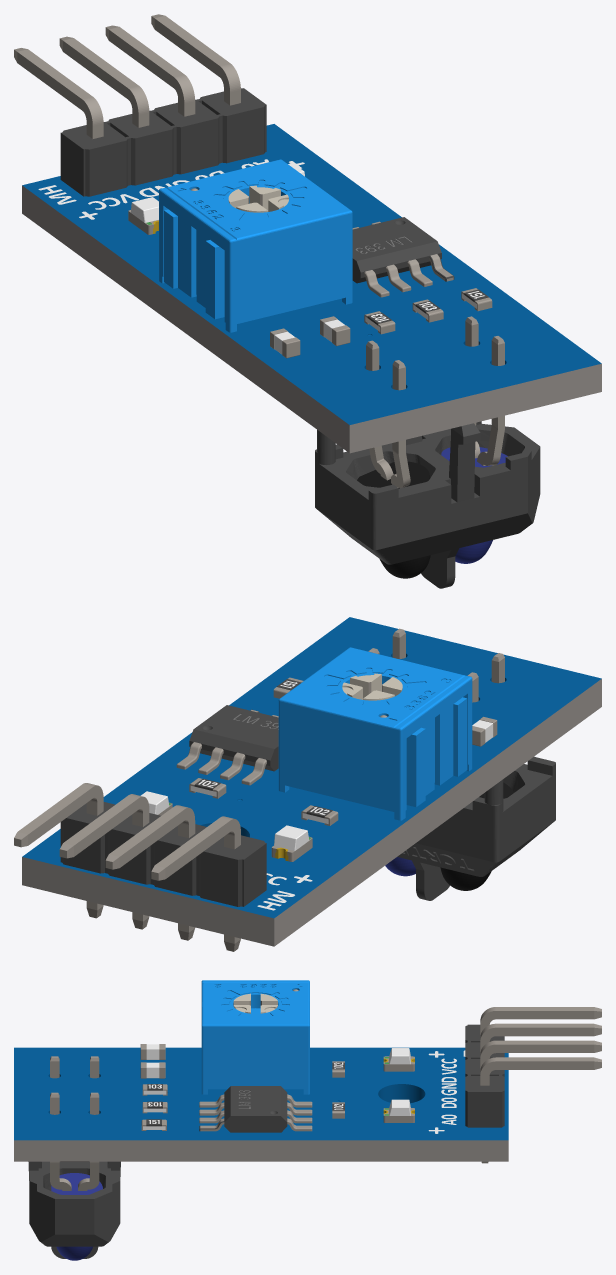
The model's file is MODULO TCRT5000L.obj.
3 renders of one model, top to bottom at view 1: azimuth 30°, elevation 25°; view 2: azimuth 150°, elevation 25°; view 3: azimuth 270°, elevation 25°, orthographic. The views are drawn at different scales.
Parts seen in each view (by area): view 1: obj6, obj1, obj3, obj14, obj2, obj8, obj5, obj4, obj15, obj10, obj9; view 2: obj6, obj3, obj1, obj14, obj2, obj8, obj5, obj4, obj10, obj15; view 3: obj6, obj3, obj14, obj1, obj2, obj5, obj8, obj4, obj9, obj10.
Boxes of the visible parts, x1,y1,x2,y2 form: obj6: [22, 124, 601, 424]; obj1: [60, 88, 540, 588]; obj3: [159, 159, 352, 332]; obj14: [22, 185, 601, 453]; obj2: [14, 14, 504, 488]; obj8: [135, 100, 540, 499]; obj5: [17, 15, 498, 472]; obj4: [38, 159, 484, 354]; obj15: [357, 461, 430, 578]; obj10: [228, 185, 288, 212]; obj9: [441, 447, 507, 563]; obj6: [22, 617, 601, 918]; obj3: [278, 647, 472, 820]; obj1: [60, 679, 555, 906]; obj14: [22, 679, 601, 946]; obj2: [14, 628, 504, 951]; obj8: [100, 686, 551, 895]; obj5: [18, 630, 496, 951]; obj4: [140, 680, 493, 910]; obj10: [342, 673, 402, 700]; obj15: [440, 782, 513, 890]; obj6: [14, 1047, 508, 1140]; obj3: [201, 980, 309, 1094]; obj14: [14, 1140, 508, 1161]; obj1: [28, 1024, 504, 1258]; obj2: [50, 989, 601, 1190]; obj5: [50, 1001, 594, 1181]; obj8: [29, 1057, 504, 1234]; obj4: [143, 1044, 465, 1133]; obj9: [51, 1173, 102, 1260]; obj10: [233, 993, 277, 1013].
Size of the model in its own units: 14 by 16.41 by 37.45.
